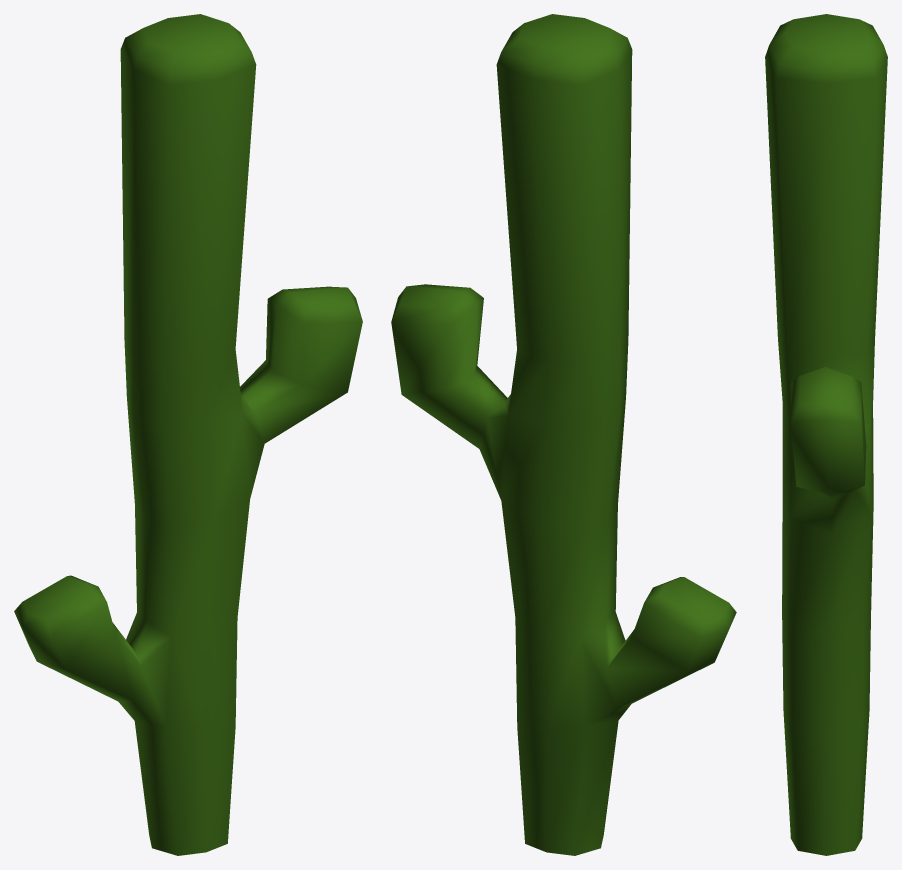
File: Cactus_36_A.fbx
The picture shows the model from 3 angles, left to right: view 1: azimuth 30°, elevation 25°; view 2: azimuth 150°, elevation 25°; view 3: azimuth 270°, elevation 25°; orthographic projection.
Parts seen in each view (by area): view 1: Cactus_36_A; view 2: Cactus_36_A; view 3: Cactus_36_A.
Part boxes in pixels (bbox=[...]): Cactus_36_A: bbox=[14, 14, 362, 855]; Cactus_36_A: bbox=[391, 14, 736, 855]; Cactus_36_A: bbox=[765, 14, 887, 855].
Size of the model in its own units: 91.73 by 213 by 29.39.
